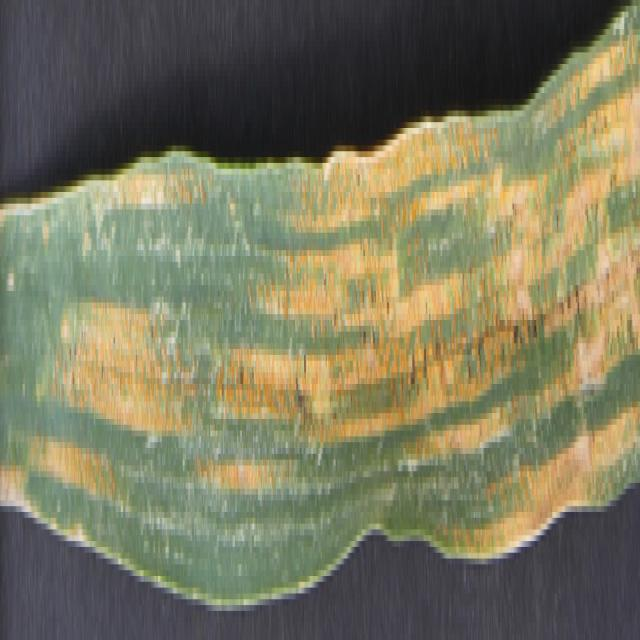leaf rust: (0, 6, 640, 576)
